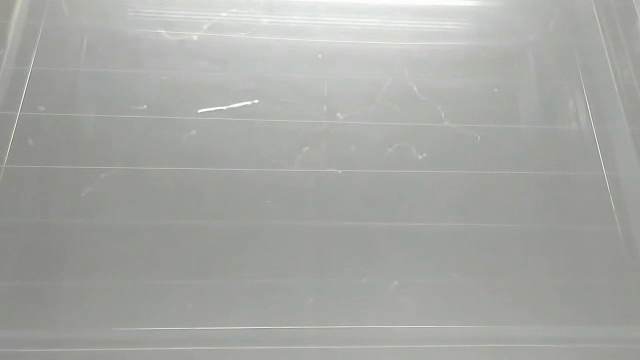alpha: (196, 98, 263, 117)
